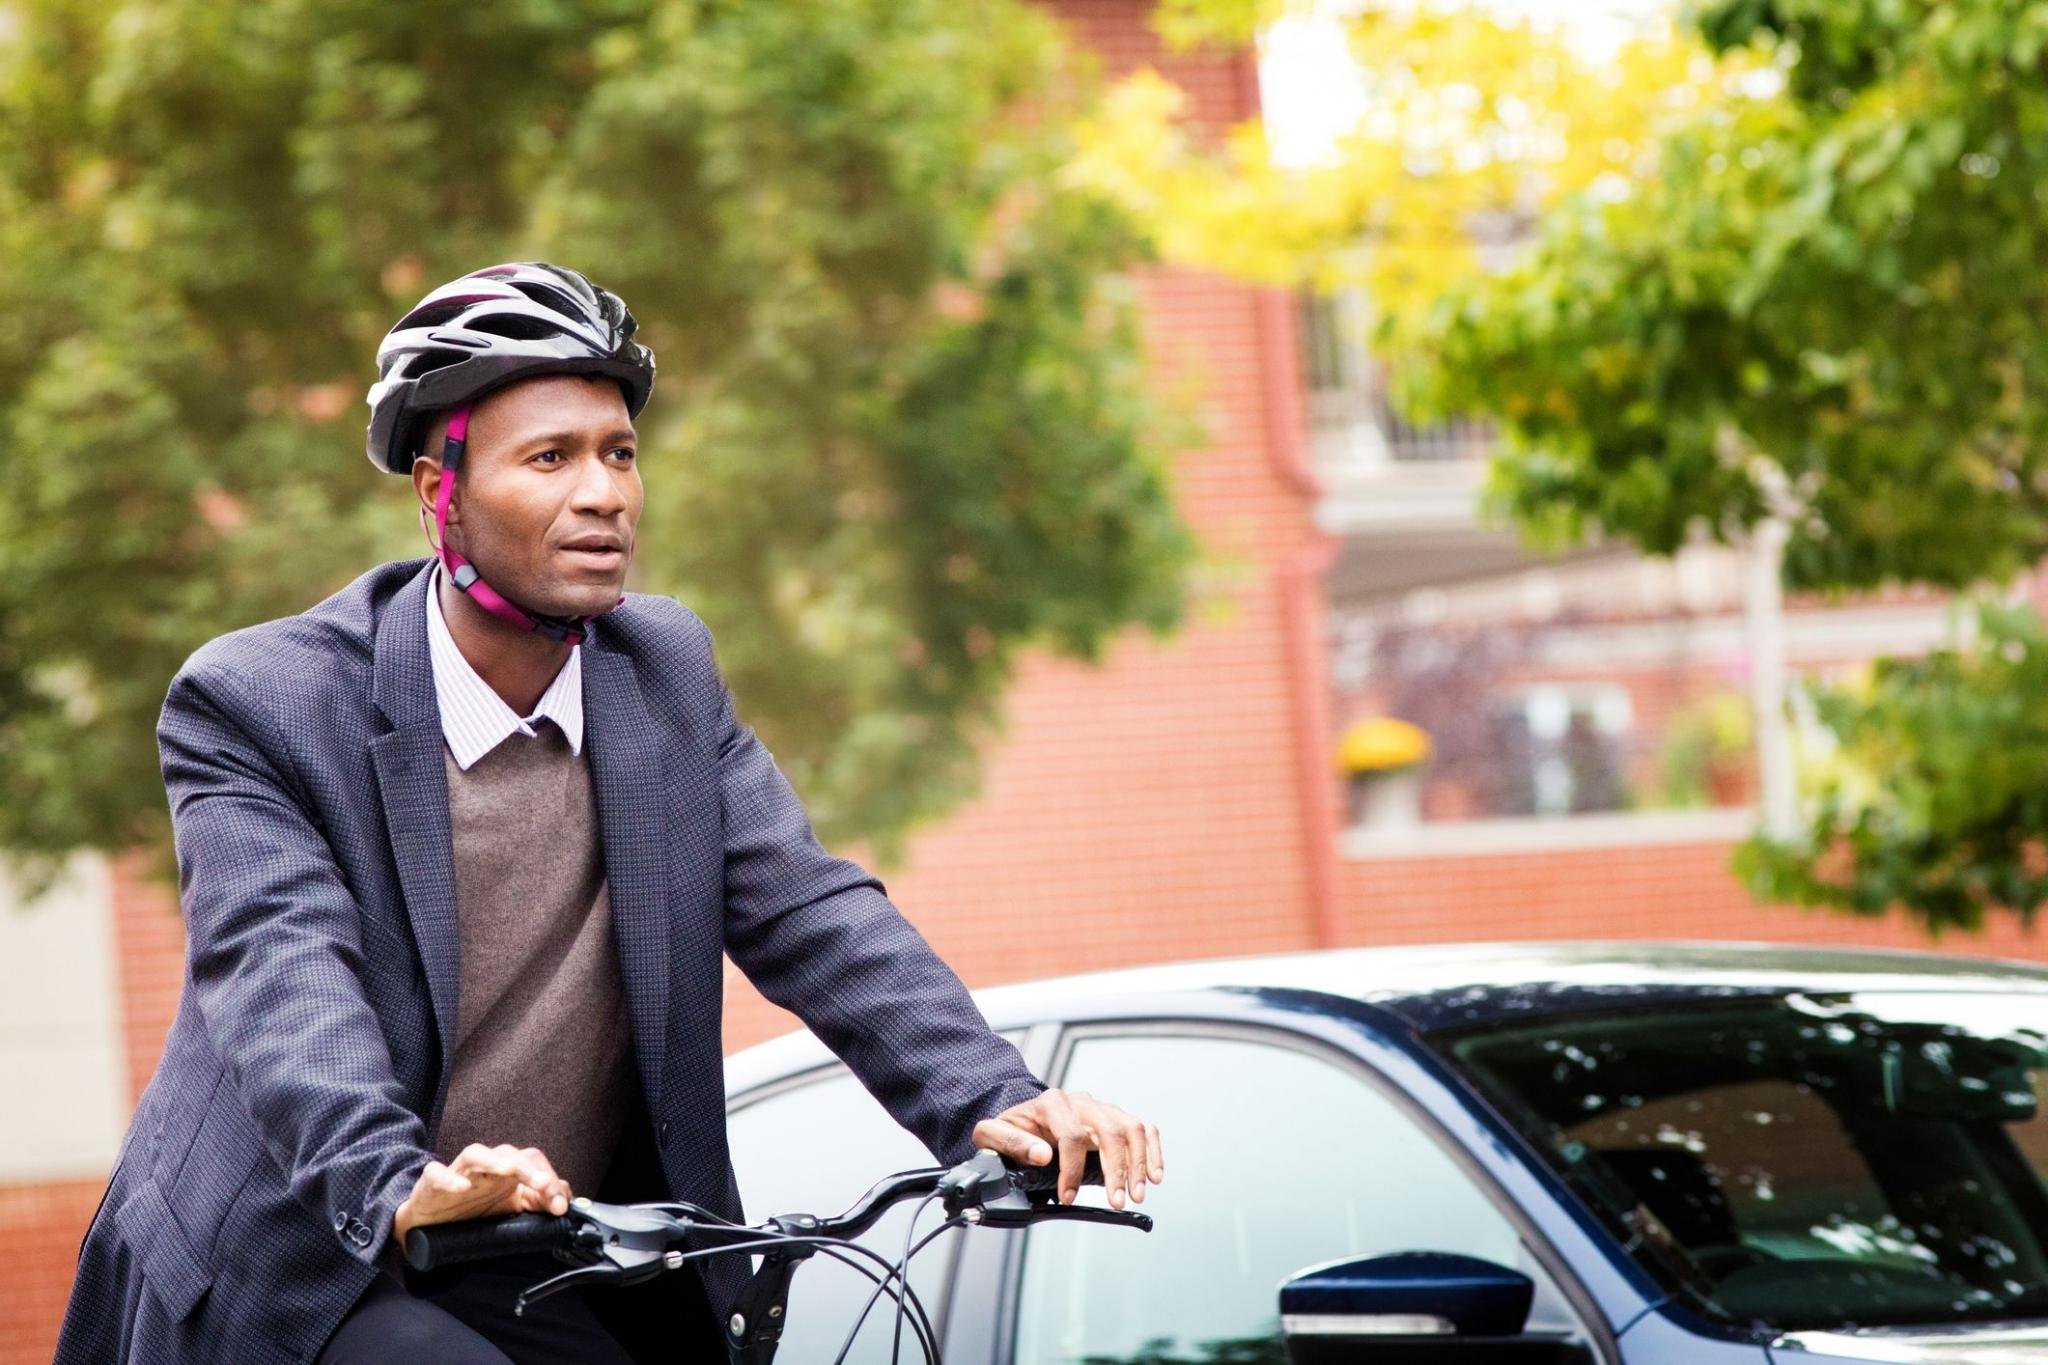Helmet: (361, 265, 658, 478)
